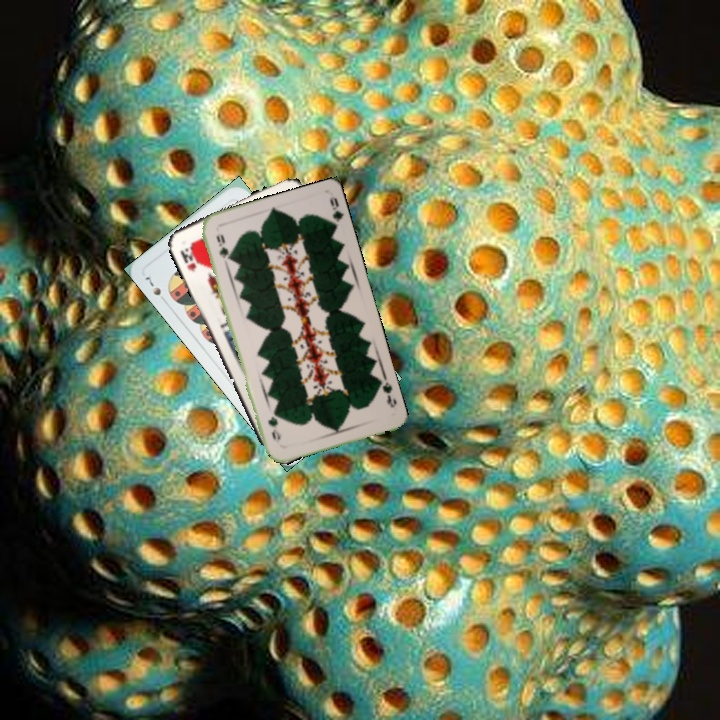G9: (374, 376, 399, 411), (212, 230, 232, 264)
HK: (176, 243, 200, 275)
S7: (140, 272, 169, 306)
